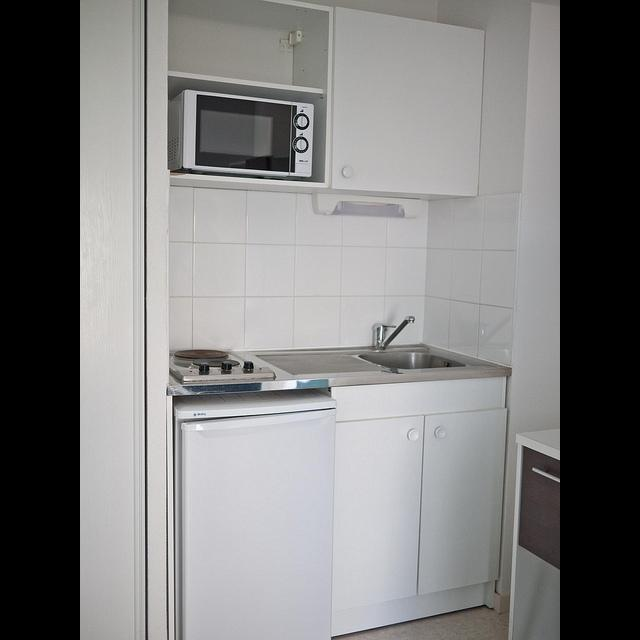Microwave: (168, 92, 320, 180)
Refrigerator: (174, 390, 337, 633)
